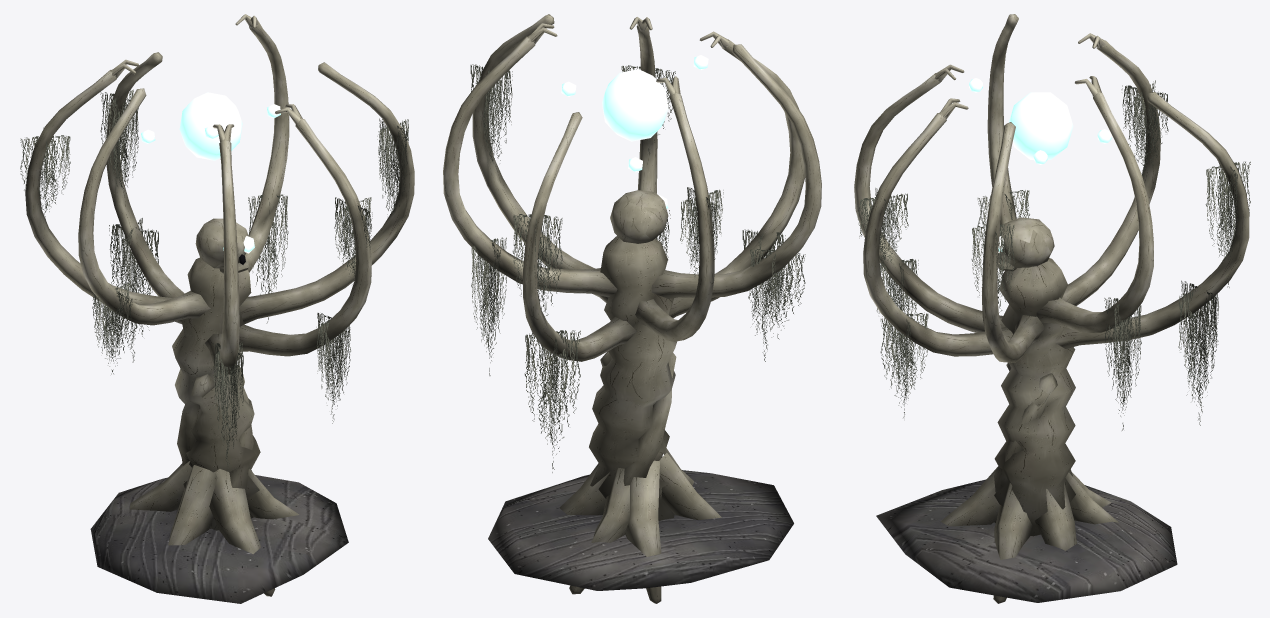
File: helheim_bone_tree_b.glb
3 renders of one model, left to right at view 1: azimuth 30°, elevation 25°; view 2: azimuth 150°, elevation 25°; view 3: azimuth 270°, elevation 25°, orthographic. The views are drawn at different scales.
Parts seen in each view (by area): view 1: helheim_bone_tree_b; view 2: helheim_bone_tree_b; view 3: helheim_bone_tree_b.
Boxes of the visible parts, x1,y1,x2,y2 form: helheim_bone_tree_b: (20, 14, 414, 603); helheim_bone_tree_b: (443, 14, 821, 603); helheim_bone_tree_b: (854, 14, 1250, 603).
Size of the model in its own units: 2.4 by 3.47 by 2.46.
5 materials, 3 textured.
